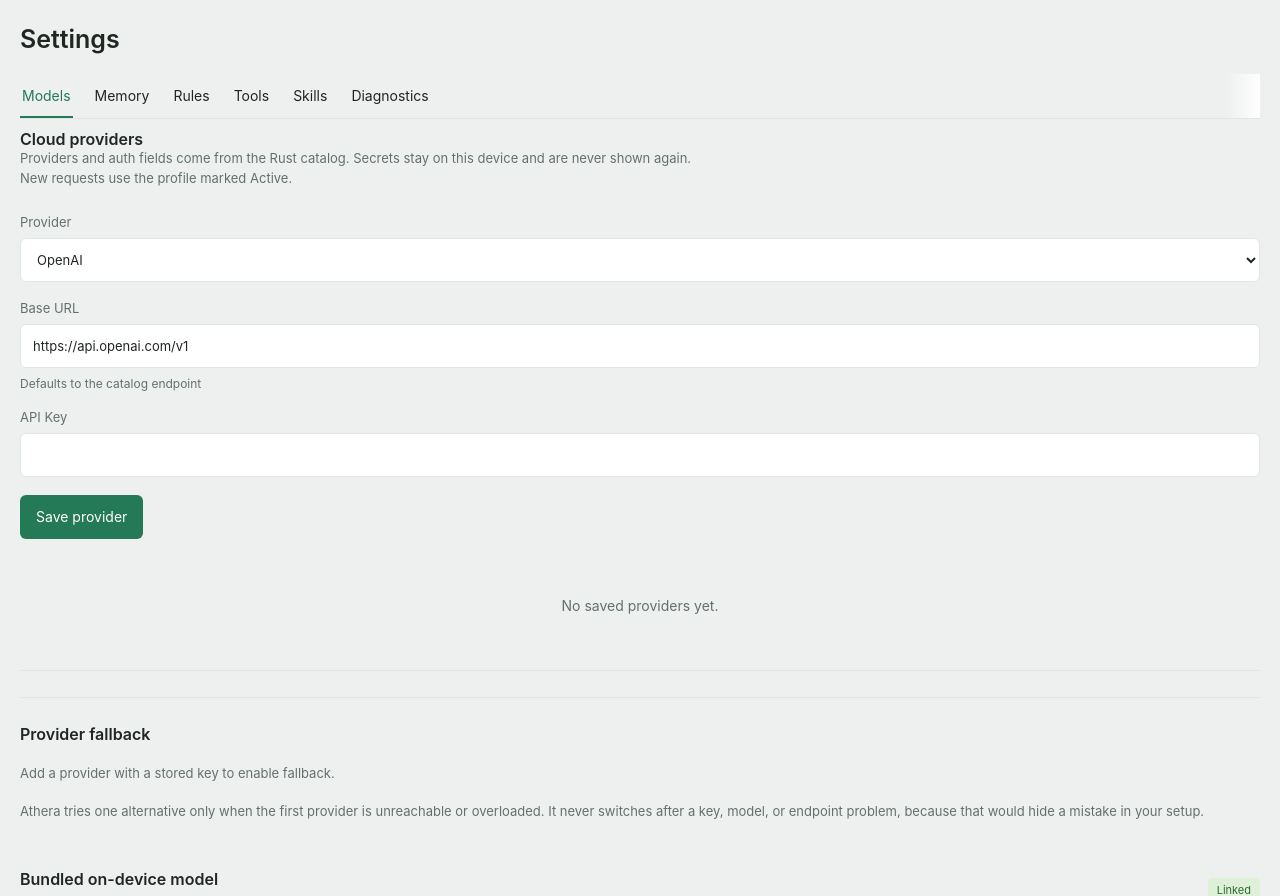
keeps the entered key when the backend rejects the profile
This screenshot has width=1280, height=896.
Type "fixture-not-real-key" into the password field labelled "API Key" at (640, 455), box [20,433,1260,477]
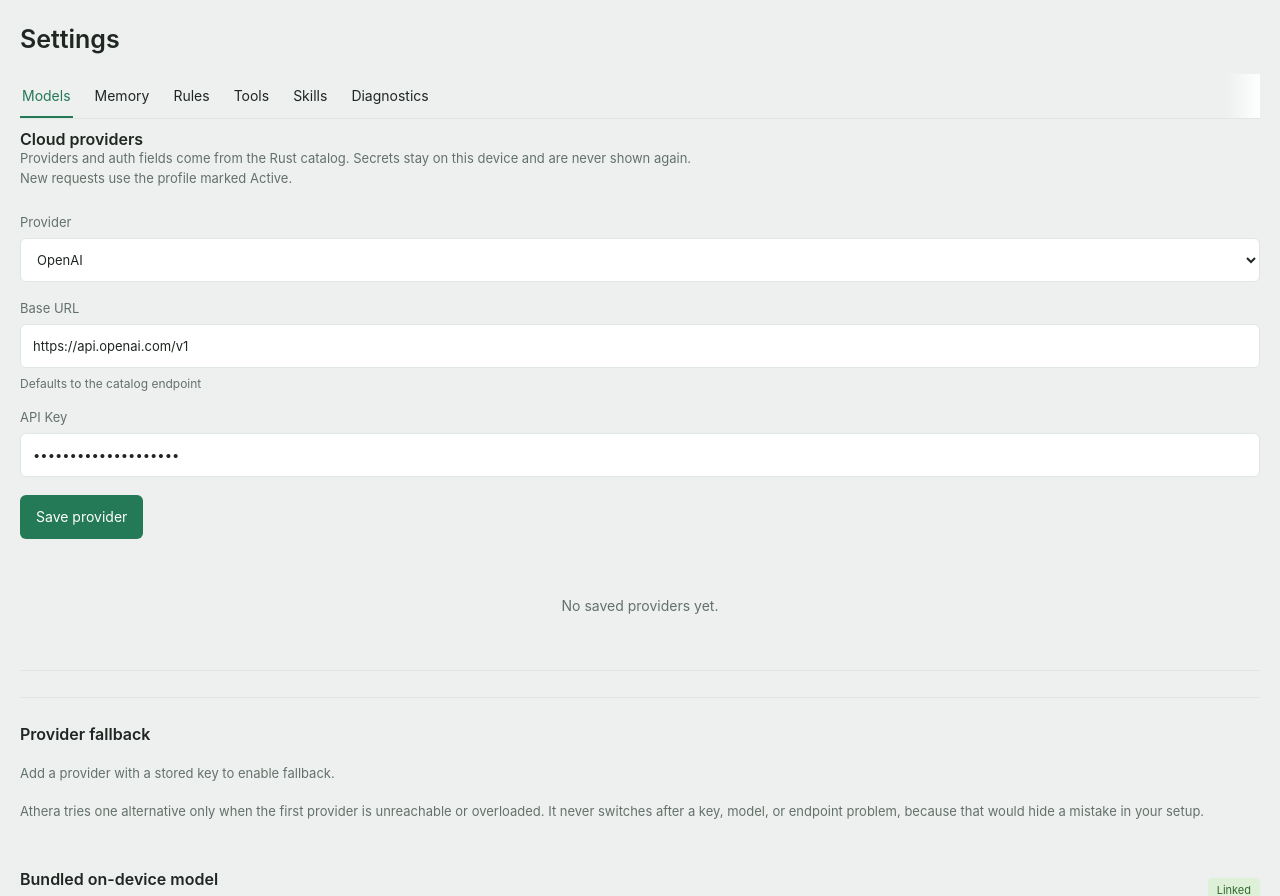
Click the button "Save provider" at (82, 517), box [20,495,143,539]
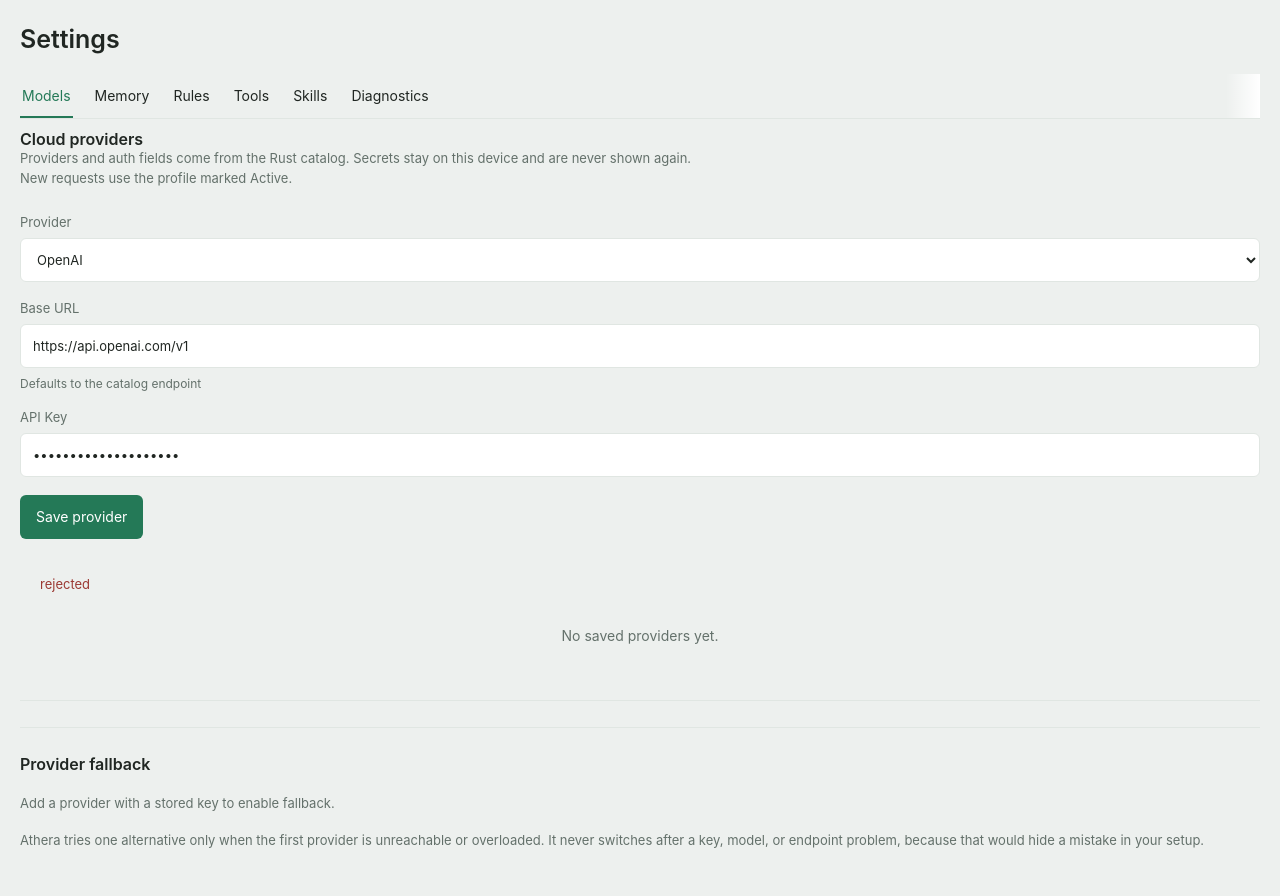
Expected: the message "rejected" is shown, [40,576,90,592]
